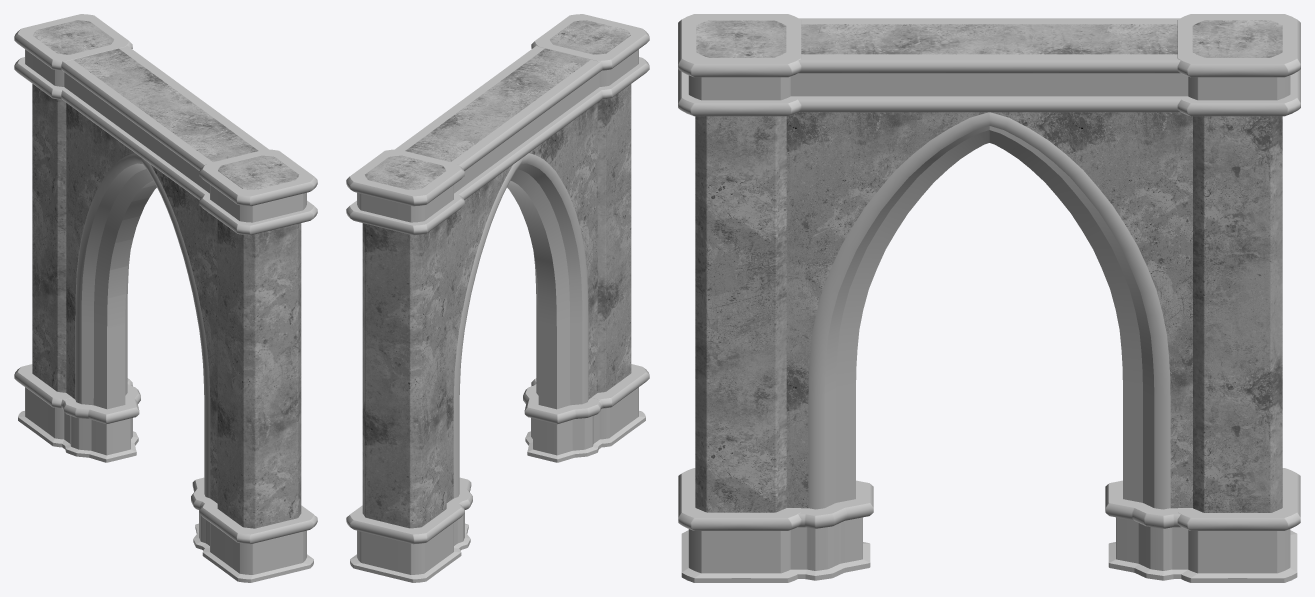
The model's file is SM_Wallkit_Gate_Proc_01b.fbx.
3 renders of one model, left to right at view 1: azimuth 30°, elevation 25°; view 2: azimuth 150°, elevation 25°; view 3: azimuth 270°, elevation 25°, orthographic. The views are drawn at different scales.
Visible parts, largest first — view 1: SM_Wallkit_Gate_Proc_01b_LOD0; view 2: SM_Wallkit_Gate_Proc_01b_LOD0; view 3: SM_Wallkit_Gate_Proc_01b_LOD0.
Part boxes in pixels (x1,y1,x2,y2): SM_Wallkit_Gate_Proc_01b_LOD0: (14,14,317,582); SM_Wallkit_Gate_Proc_01b_LOD0: (346,14,649,582); SM_Wallkit_Gate_Proc_01b_LOD0: (678,14,1300,582).
Bounding box in the file's own units: 175 × 871 × 801.
